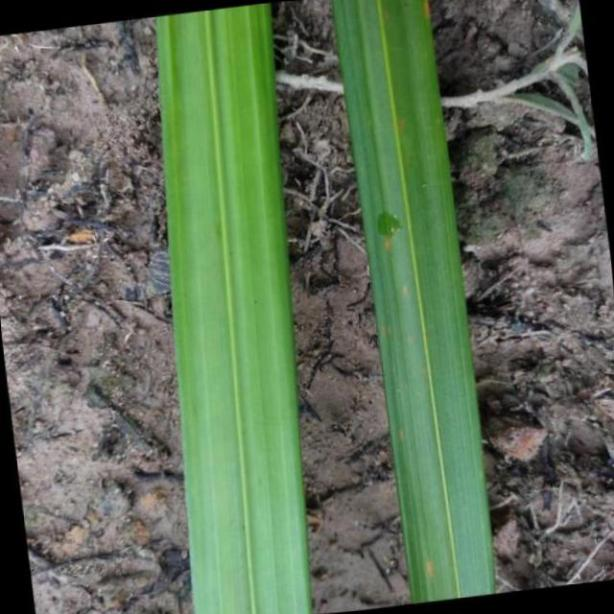nitrogen: (152, 12, 308, 614)
